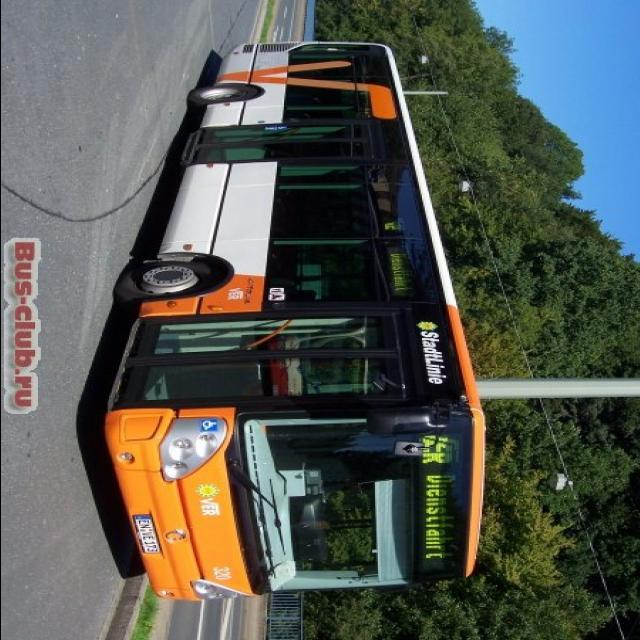bus: (97, 39, 489, 606)
